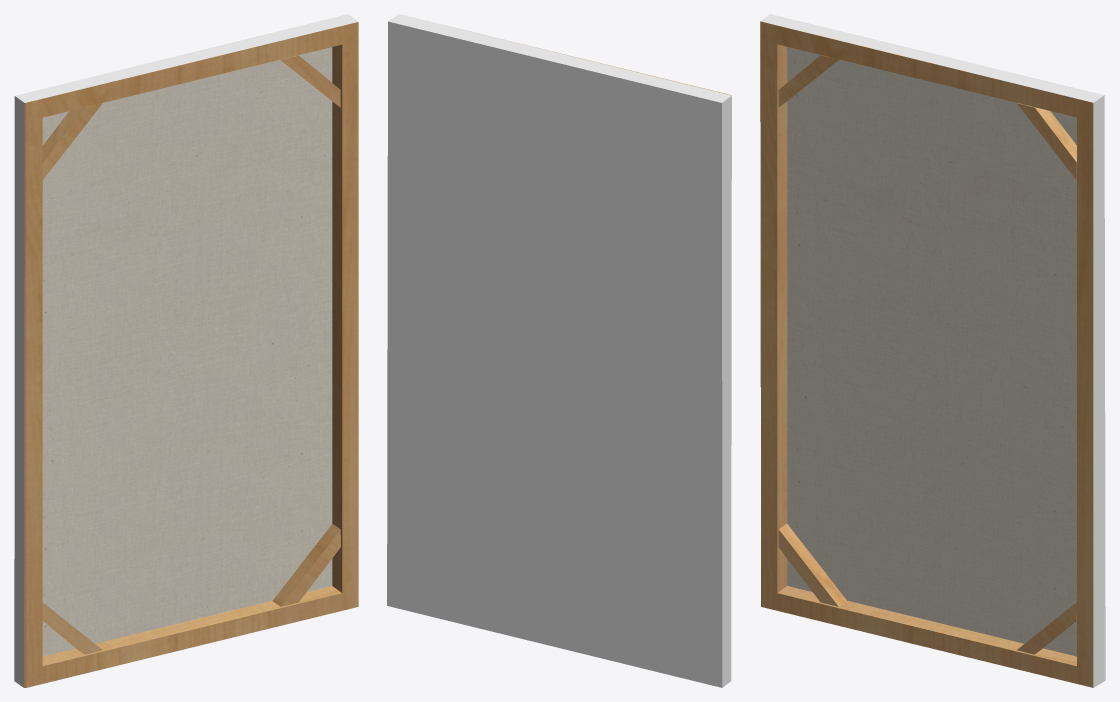
The model's file is Canvas 2.FBX.
3 renders of one model, left to right at view 1: azimuth 30°, elevation 25°; view 2: azimuth 150°, elevation 25°; view 3: azimuth 330°, elevation 25°, orthographic.
Parts seen in each view (by area): view 1: Canvas 2; view 2: Canvas 2; view 3: Canvas 2.
Part boxes in pixels (<box>): Canvas 2: <box>14,14,358,687</box>; Canvas 2: <box>387,14,731,687</box>; Canvas 2: <box>760,14,1105,687</box>.
Size of the model in its own units: 78.56 by 131 by 4.28.
